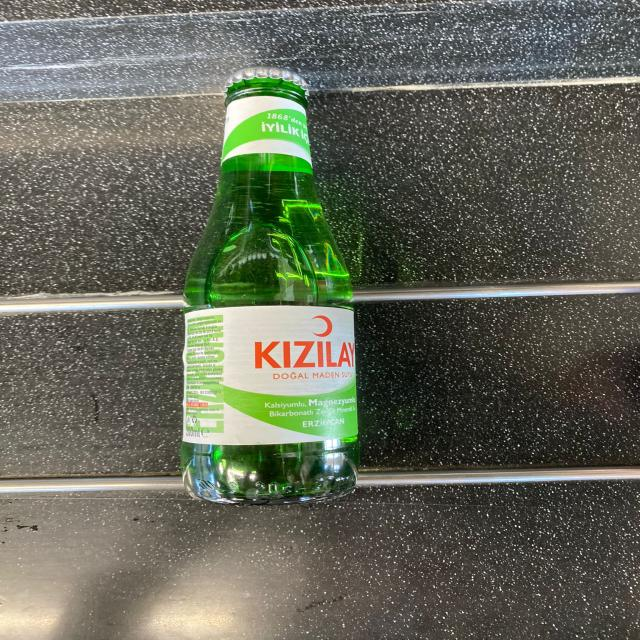yan_yemek: (180, 65, 360, 506)
